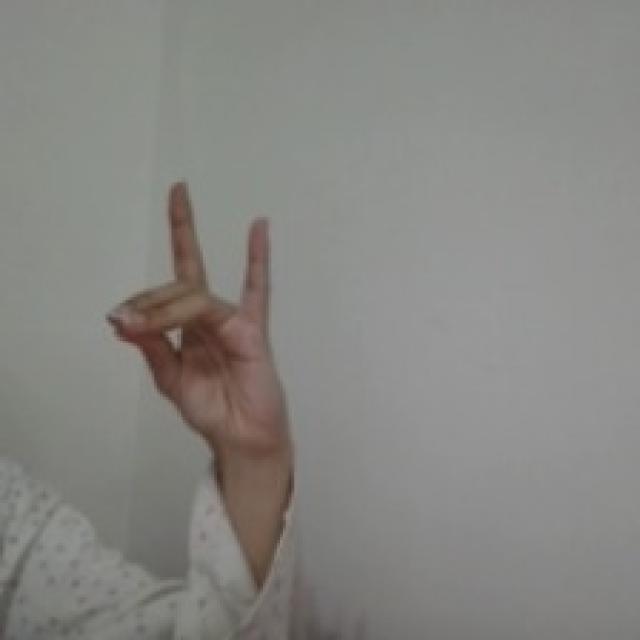Dog: (102, 173, 293, 462)
